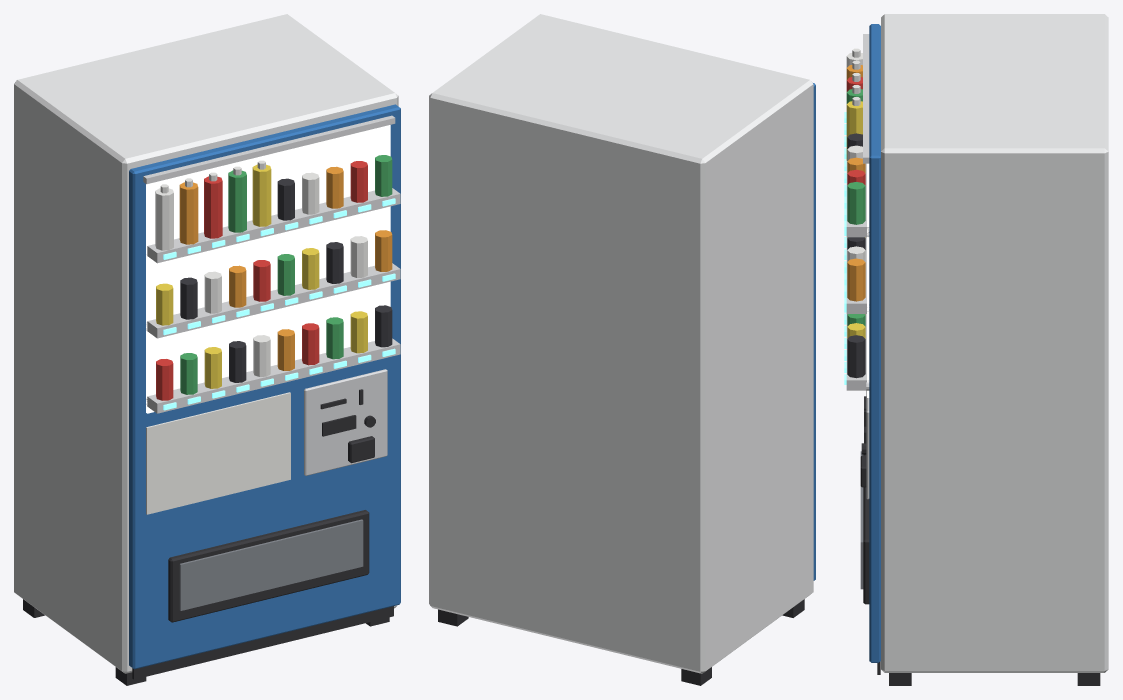
Rendered from vending_machine.glb.
3 renders of one model, left to right at view 1: azimuth 30°, elevation 25°; view 2: azimuth 150°, elevation 25°; view 3: azimuth 270°, elevation 25°, orthographic.
Visible parts, largest first — view 1: vending_machine; view 2: vending_machine; view 3: vending_machine.
Boxes of the visible parts, x1,y1,x2,y2 form: vending_machine: (14, 14, 400, 685); vending_machine: (429, 14, 815, 685); vending_machine: (844, 14, 1108, 685).
Bounding box in the file's own units: 1 × 1.83 × 0.812.
